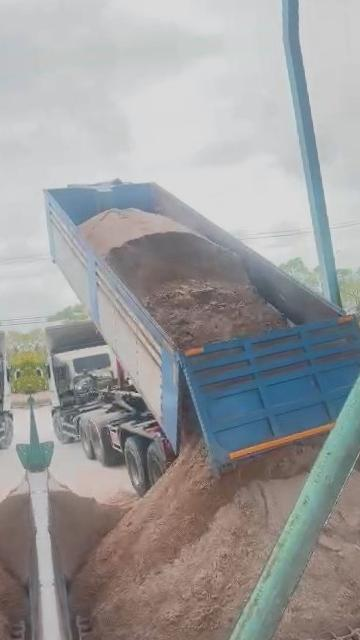sand: (73, 440, 316, 640), (80, 208, 286, 346), (273, 443, 360, 640), (49, 479, 134, 580)
